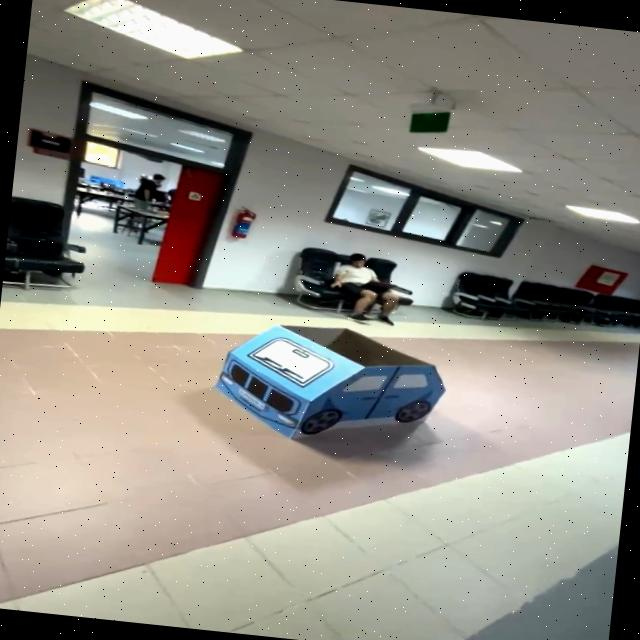blue_car: (191, 306, 476, 466)
